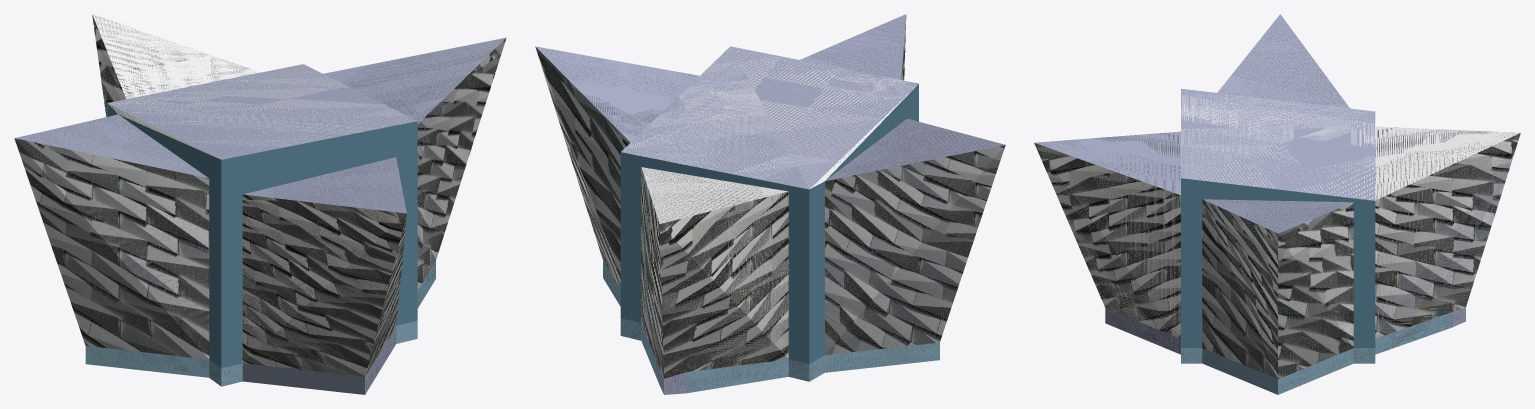
File: titanicquarter.obj
The picture shows the model from 3 angles, left to right: view 1: azimuth 30°, elevation 25°; view 2: azimuth 150°, elevation 25°; view 3: azimuth 270°, elevation 25°; orthographic projection. The views are drawn at different scales.
Parts seen in each view (by area): view 1: Mesh1 Model; view 2: Mesh1 Model; view 3: Mesh1 Model.
Boxes of the visible parts, x1,y1,x2,y2 form: Mesh1 Model: (14,14,506,394); Mesh1 Model: (535,14,1005,394); Mesh1 Model: (1034,14,1520,394).
Bounding box in the file's own units: 113 × 53.09 × 114.
